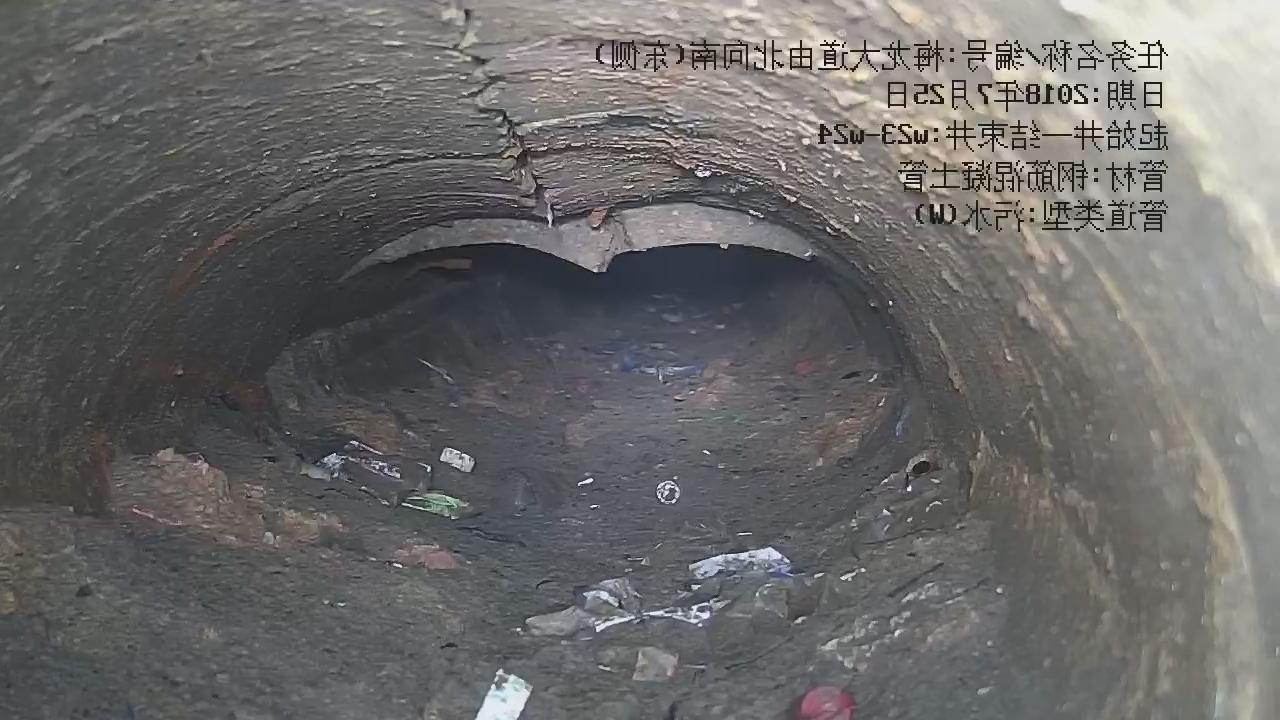CJ: (1, 307, 1000, 719)
PL: (191, 11, 698, 255)
